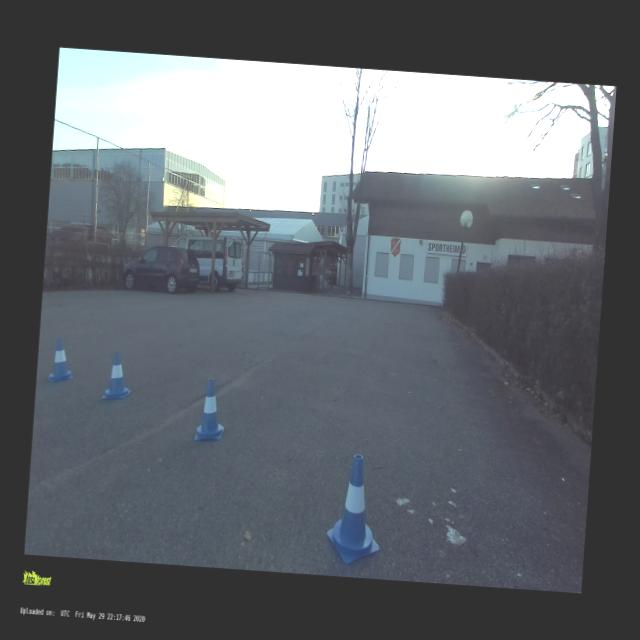blue_cone: (324, 452, 386, 566), (194, 376, 227, 442), (100, 350, 134, 400), (46, 338, 76, 384)
